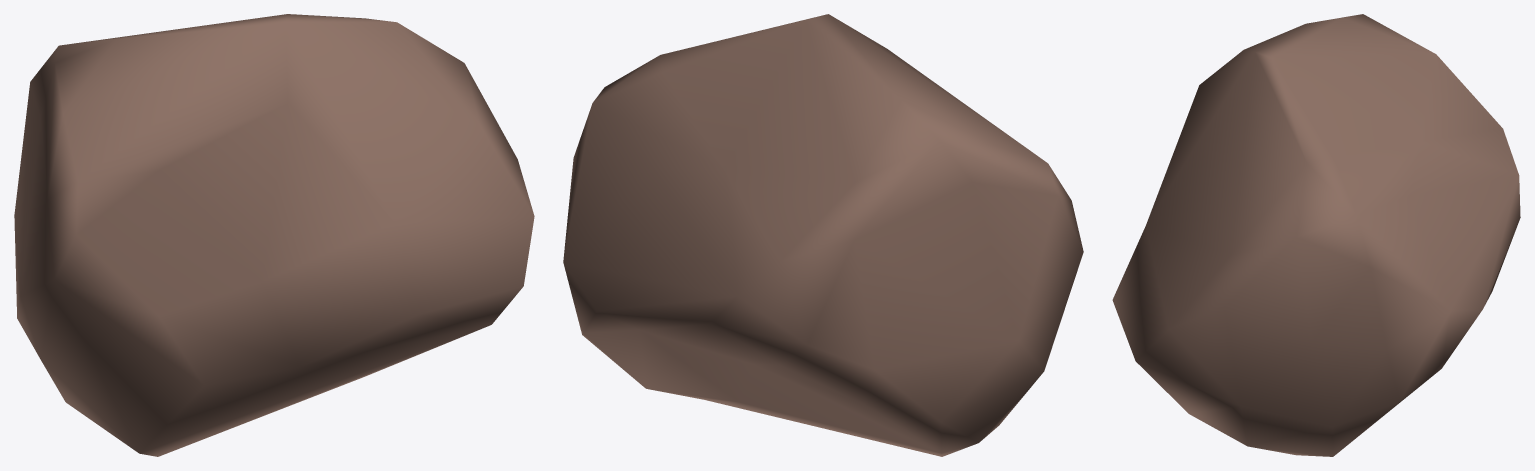
File: SM_SmallStone03.fbx
3 renders of one model, left to right at view 1: azimuth 30°, elevation 25°; view 2: azimuth 150°, elevation 25°; view 3: azimuth 270°, elevation 25°, orthographic. The views are drawn at different scales.
Visible parts, largest first — view 1: SM_SmallStone03; view 2: SM_SmallStone03; view 3: SM_SmallStone03.
Boxes of the visible parts, left/top/right/bottom form: SM_SmallStone03: left=14, top=14, right=534, bottom=456; SM_SmallStone03: left=563, top=14, right=1083, bottom=456; SM_SmallStone03: left=1112, top=14, right=1520, bottom=456.
Size of the model in its own units: 29.95 by 25.54 by 25.43.
